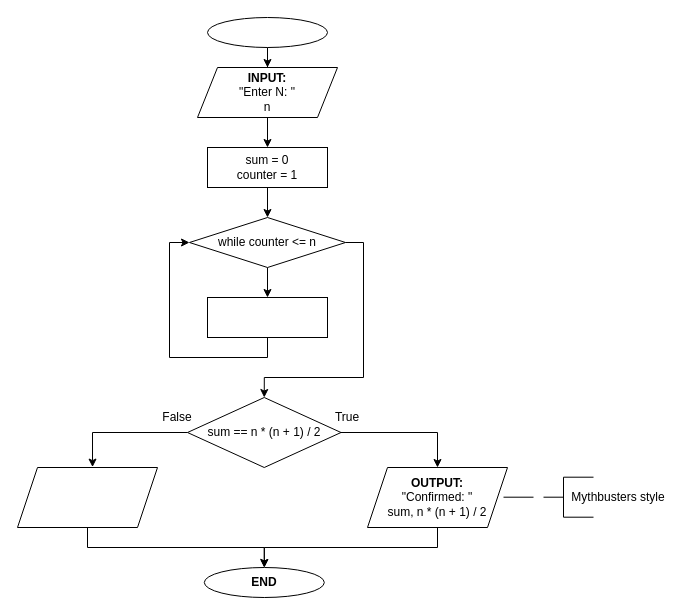
Image size: 691x615. Some labels were removed from this diagram. Each missing label, with the box of its shape:
BEGIN: (206, 16, 328, 48)
OUTPUT: "Busted: " sum, n * (n + 1) / 2: (16, 466, 158, 528)
sum += counter counter += 1: (206, 296, 328, 338)
